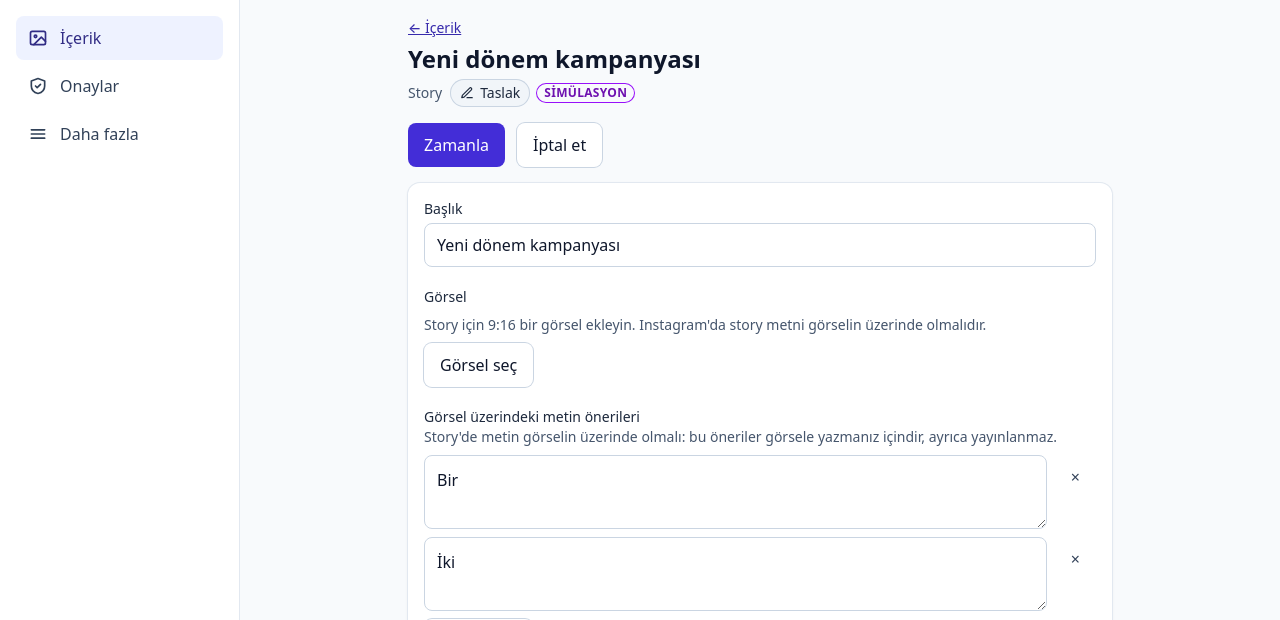
Scenario: content editor: story › removes a suggestion
Expected: the text box named "Öneri 2" is shown, [424,537,1047,611]
Click the button named "Öneri 1 sil": (1075, 477) [1055,455,1096,499]
(page scrolled)
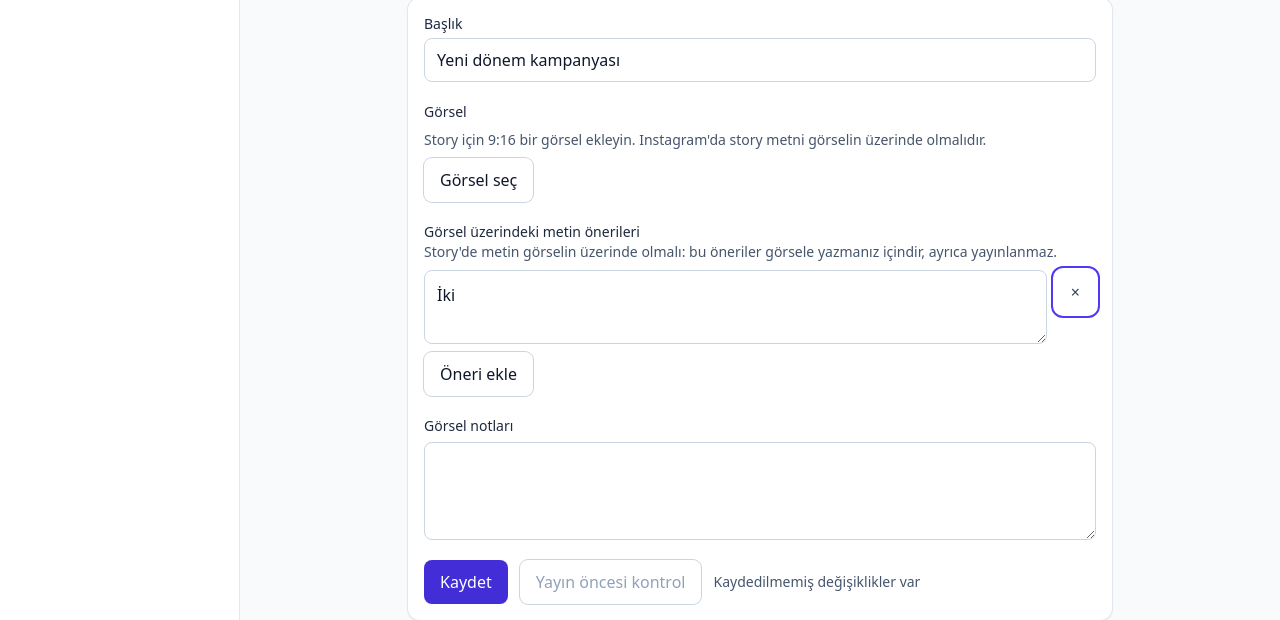
Click the button "Kaydet": (466, 582) [424,560,508,604]
(page scrolled)
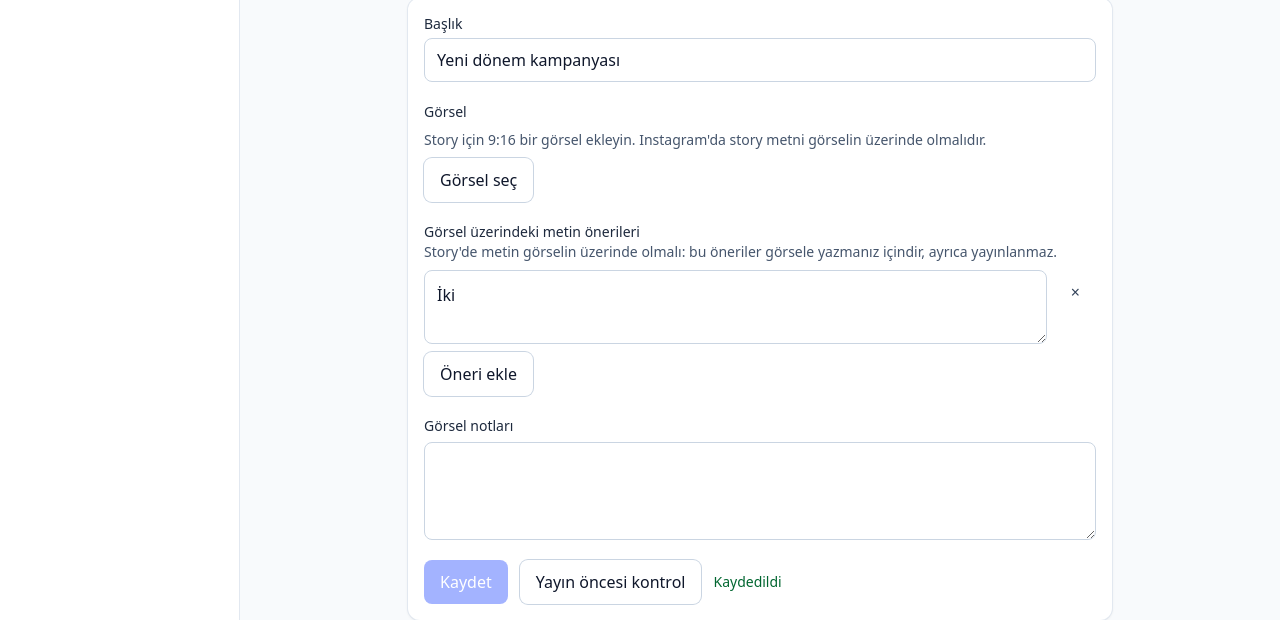
Expected: the text "Kaydedildi" is shown, [714,572,782,592]
